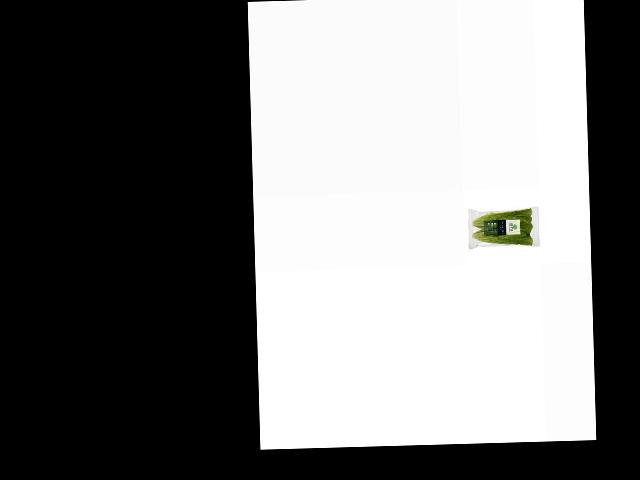lettuce: (470, 208, 535, 251)
